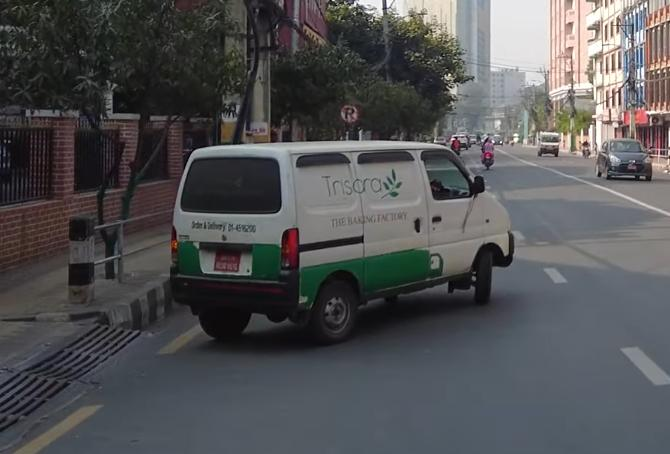car: (593, 136, 660, 183)
van: (168, 135, 527, 347)
